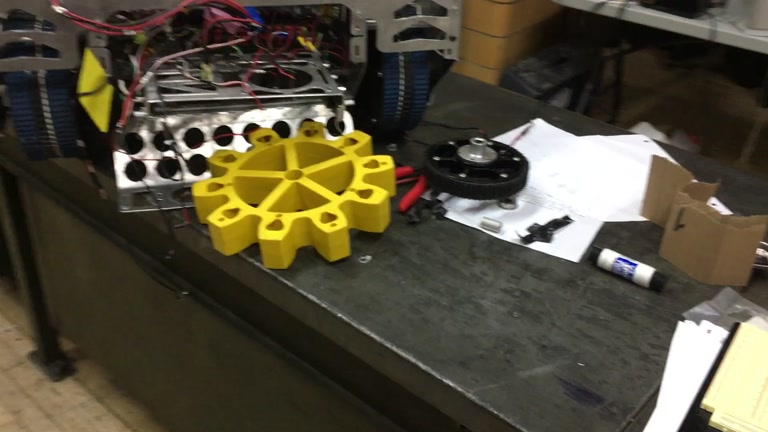gear: (190, 120, 396, 269)
